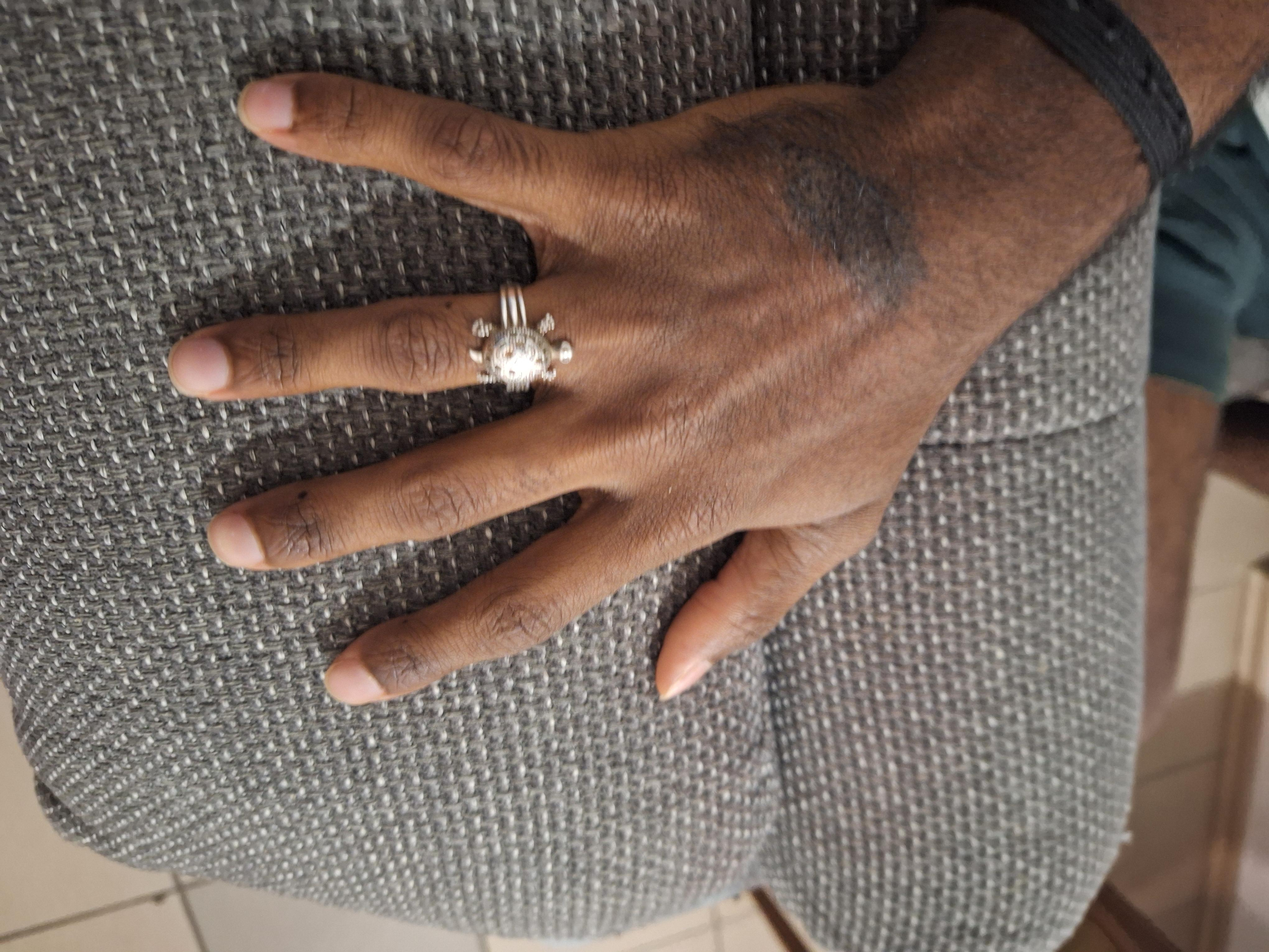Fingernail: (168, 339, 229, 399), (325, 659, 385, 705), (239, 81, 291, 133), (209, 514, 260, 567), (659, 661, 711, 704)
